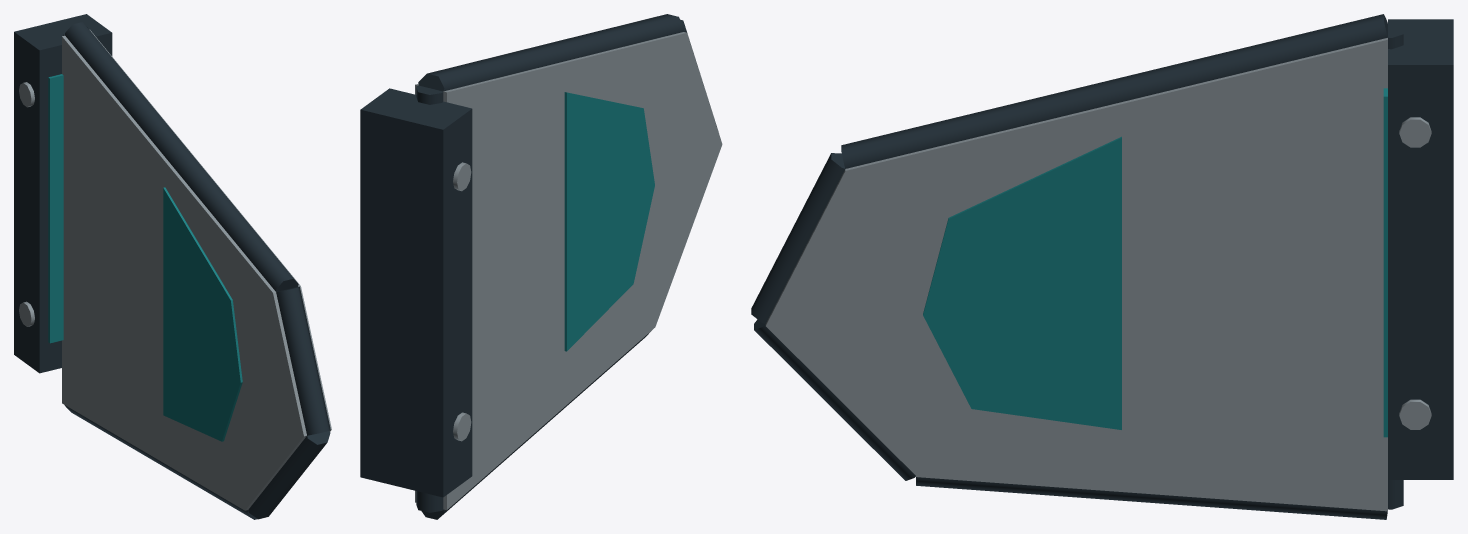
File: r_42_lopast.glb
3 renders of one model, left to right at view 1: azimuth 30°, elevation 25°; view 2: azimuth 150°, elevation 25°; view 3: azimuth 270°, elevation 25°, orthographic. The views are drawn at different scales.
Visible parts, largest first — view 1: r_42_lopast.deflection.mesh_JUGRE_·_bead-blasted_titanium, r_42_lopast.deflection.mesh_JUGRE_·_graphite_composite, r_42_lopast.deflection.mesh_JUGRE_·_signal_teal, r_42_lopast.mesh_JUGRE_·_graphite_composite, r_42_lopast.mesh_JUGRE_·_signal_teal, r_42_lopast.mesh_JUGRE_·_bead-blasted_titanium; view 2: r_42_lopast.deflection.mesh_JUGRE_·_bead-blasted_titanium, r_42_lopast.mesh_JUGRE_·_graphite_composite, r_42_lopast.deflection.mesh_JUGRE_·_signal_teal, r_42_lopast.deflection.mesh_JUGRE_·_graphite_composite, r_42_lopast.mesh_JUGRE_·_bead-blasted_titanium; view 3: r_42_lopast.deflection.mesh_JUGRE_·_bead-blasted_titanium, r_42_lopast.deflection.mesh_JUGRE_·_signal_teal, r_42_lopast.mesh_JUGRE_·_graphite_composite, r_42_lopast.deflection.mesh_JUGRE_·_graphite_composite, r_42_lopast.mesh_JUGRE_·_signal_teal, r_42_lopast.mesh_JUGRE_·_bead-blasted_titanium.
Part boxes in pixels (box(x1,y1,x2,y2)): r_42_lopast.deflection.mesh_JUGRE_·_bead-blasted_titanium: box(62, 29, 331, 510); r_42_lopast.deflection.mesh_JUGRE_·_graphite_composite: box(63, 22, 330, 519); r_42_lopast.deflection.mesh_JUGRE_·_signal_teal: box(163, 187, 242, 441); r_42_lopast.mesh_JUGRE_·_graphite_composite: box(14, 14, 112, 373); r_42_lopast.mesh_JUGRE_·_signal_teal: box(48, 74, 63, 343); r_42_lopast.mesh_JUGRE_·_bead-blasted_titanium: box(19, 82, 34, 326); r_42_lopast.deflection.mesh_JUGRE_·_bead-blasted_titanium: box(415, 32, 722, 510); r_42_lopast.mesh_JUGRE_·_graphite_composite: box(360, 88, 472, 497); r_42_lopast.deflection.mesh_JUGRE_·_signal_teal: box(564, 92, 654, 351); r_42_lopast.deflection.mesh_JUGRE_·_graphite_composite: box(416, 14, 716, 519); r_42_lopast.mesh_JUGRE_·_bead-blasted_titanium: box(453, 162, 471, 441); r_42_lopast.deflection.mesh_JUGRE_·_bead-blasted_titanium: box(765, 22, 1387, 511); r_42_lopast.deflection.mesh_JUGRE_·_signal_teal: box(923, 136, 1121, 429); r_42_lopast.mesh_JUGRE_·_graphite_composite: box(1388, 19, 1453, 479); r_42_lopast.deflection.mesh_JUGRE_·_graphite_composite: box(751, 14, 1403, 519); r_42_lopast.mesh_JUGRE_·_signal_teal: box(1383, 88, 1387, 437); r_42_lopast.mesh_JUGRE_·_bead-blasted_titanium: box(1399, 117, 1431, 429).
Size of the model in its own units: 0.1573 by 0.7309 by 0.9308.
